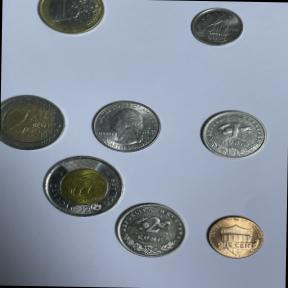coin: (40, 155, 124, 217), (87, 96, 166, 154), (115, 202, 190, 259), (0, 94, 69, 152), (206, 212, 268, 260), (188, 5, 248, 50), (34, 0, 107, 36)
